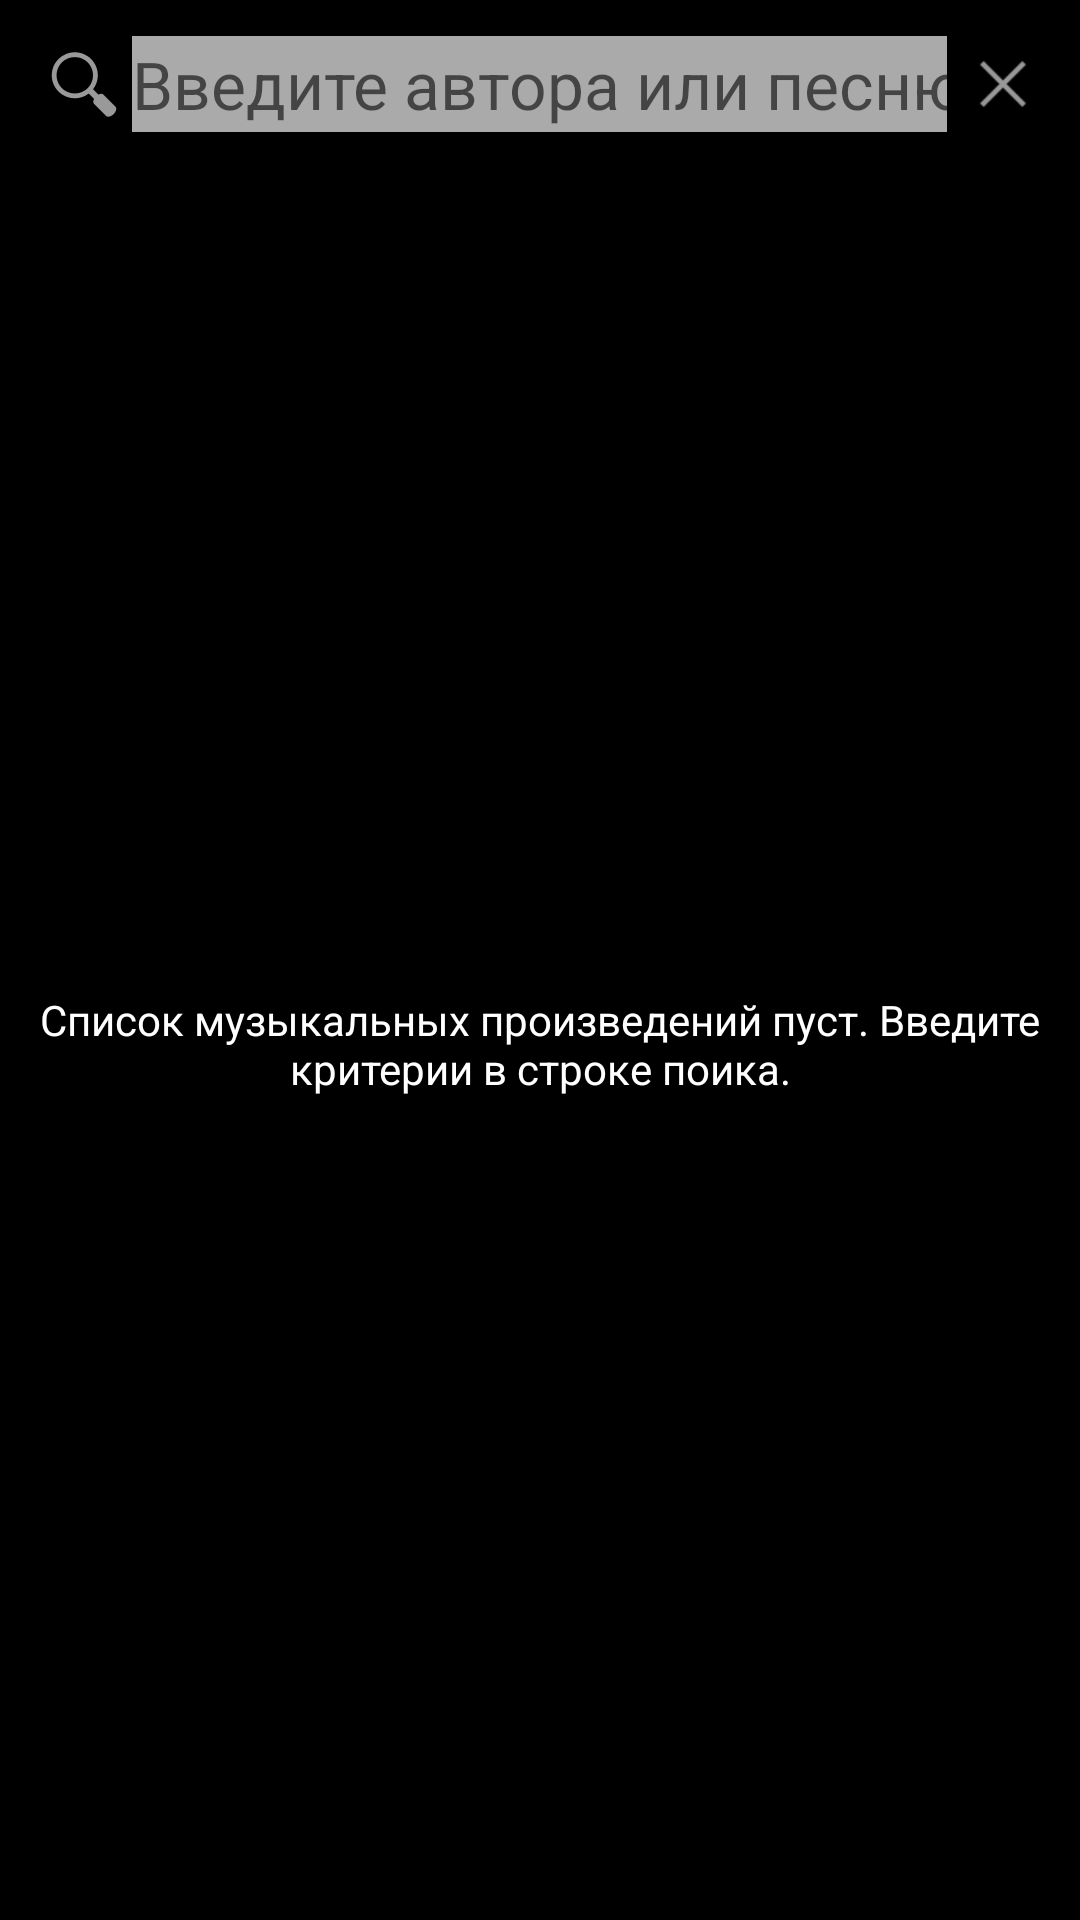

Screen size 1080 × 1920. Icon name, then its center in pixels as [x,y]:
close clear cancel: [1003,84]
search: [84,84]
